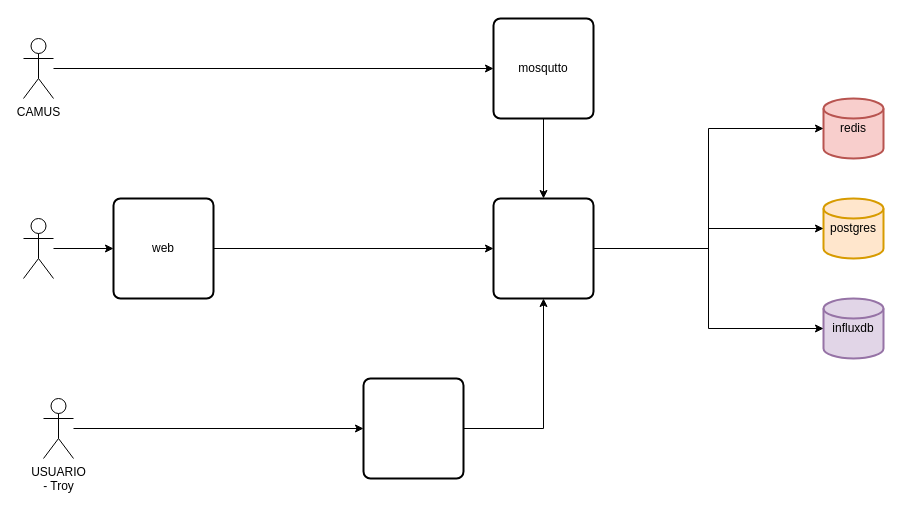
This 902x511 diagram has some shape labels left out. Each missing label, with the centre of its shape:
"ADMIN - Chad" goes at point 38,248.
"fastapi" goes at point 543,248.
"mobile" goes at point 413,428.
